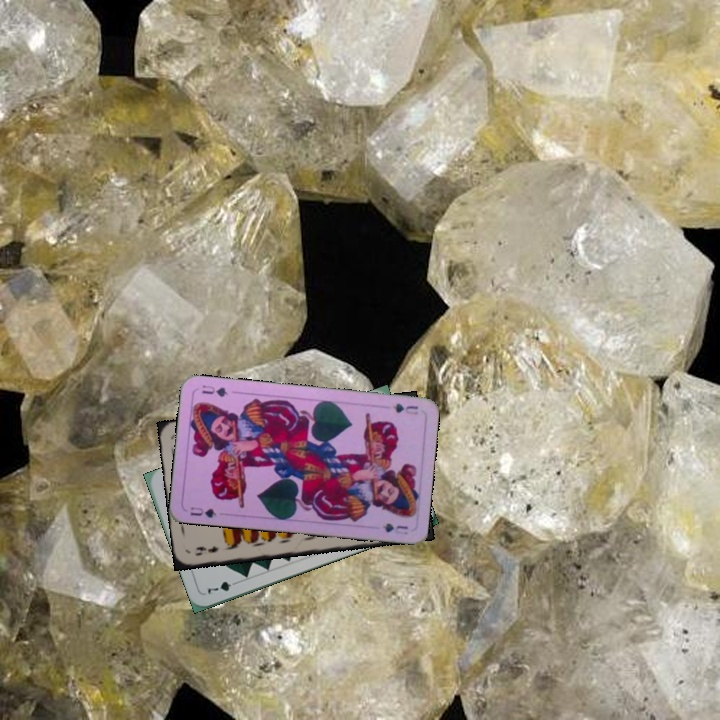E9: (191, 542, 222, 558)
G7: (202, 577, 242, 597)
GU: (186, 503, 219, 521), (389, 399, 420, 417)
